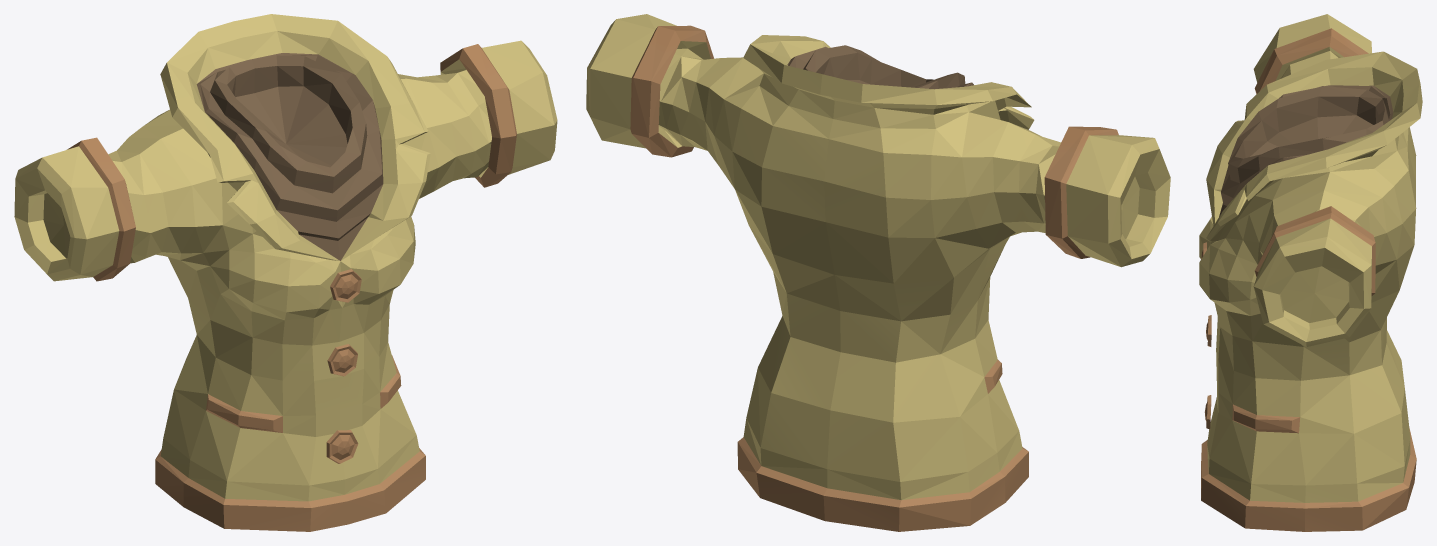
File: armorFishermanDisplay.fbx
The picture shows the model from 3 angles, left to right: view 1: azimuth 30°, elevation 25°; view 2: azimuth 150°, elevation 25°; view 3: azimuth 270°, elevation 25°; orthographic projection. The views are drawn at different scales.
Parts seen in each view (by area): view 1: armorFishermanDisplay; view 2: armorFishermanDisplay; view 3: armorFishermanDisplay.
Boxes of the visible parts, bbox=[...] form: armorFishermanDisplay: bbox=[14, 14, 557, 531]; armorFishermanDisplay: bbox=[586, 14, 1170, 531]; armorFishermanDisplay: bbox=[1199, 14, 1422, 531].
Size of the model in its own units: 1.69 by 1.37 by 0.6908.
1 material, 1 textured.
